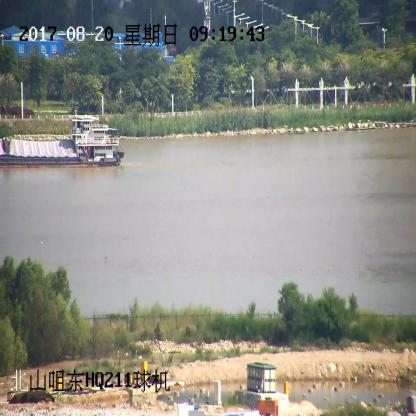Bulk Carrier: (0, 116, 124, 167)
